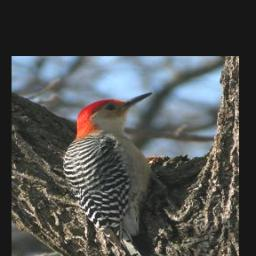Woodpecker: (59, 90, 171, 256)
